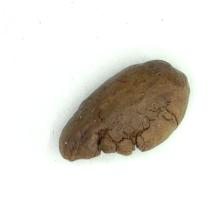NG: (73, 114, 151, 165)
